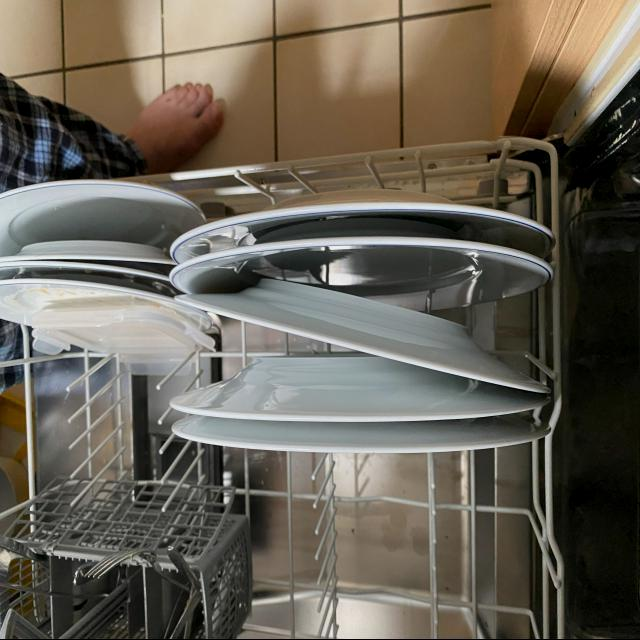clutery_bin: (26, 563, 207, 637)
empty_slot: (267, 466, 541, 640), (46, 357, 181, 480)
